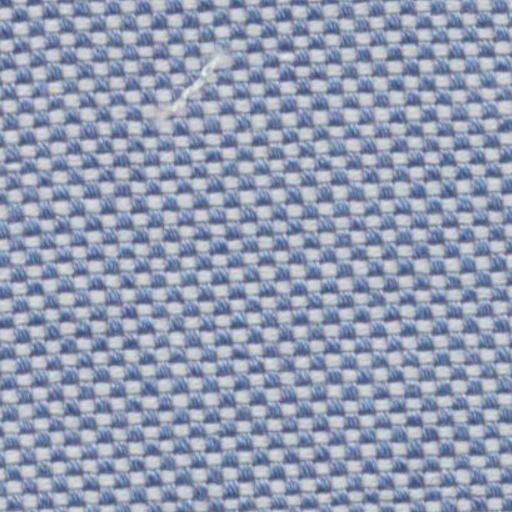DuanSha: (144, 46, 240, 130)
